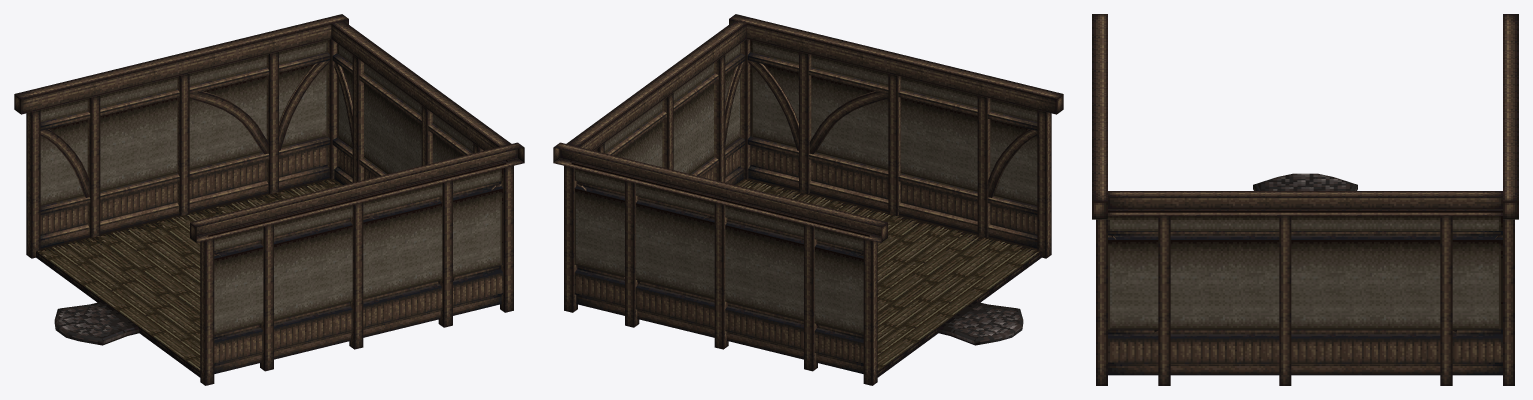
Rendered from EnvBdgMD_Mount_A_Indoor_House_A_B.FBX.
3 renders of one model, left to right at view 1: azimuth 30°, elevation 25°; view 2: azimuth 150°, elevation 25°; view 3: azimuth 270°, elevation 25°, orthographic. The views are drawn at different scales.
Visible parts, largest first — view 1: EnvBdgMD_Mount_A_Indoor_House_A_B; view 2: EnvBdgMD_Mount_A_Indoor_House_A_B; view 3: EnvBdgMD_Mount_A_Indoor_House_A_B.
Part boxes in pixels (bbox=[...]): EnvBdgMD_Mount_A_Indoor_House_A_B: bbox=[14, 14, 524, 385]; EnvBdgMD_Mount_A_Indoor_House_A_B: bbox=[553, 14, 1063, 385]; EnvBdgMD_Mount_A_Indoor_House_A_B: bbox=[1092, 14, 1518, 385].
Bounding box in the file's own units: 1250 × 520 × 1060.
1 material, 1 textured.
